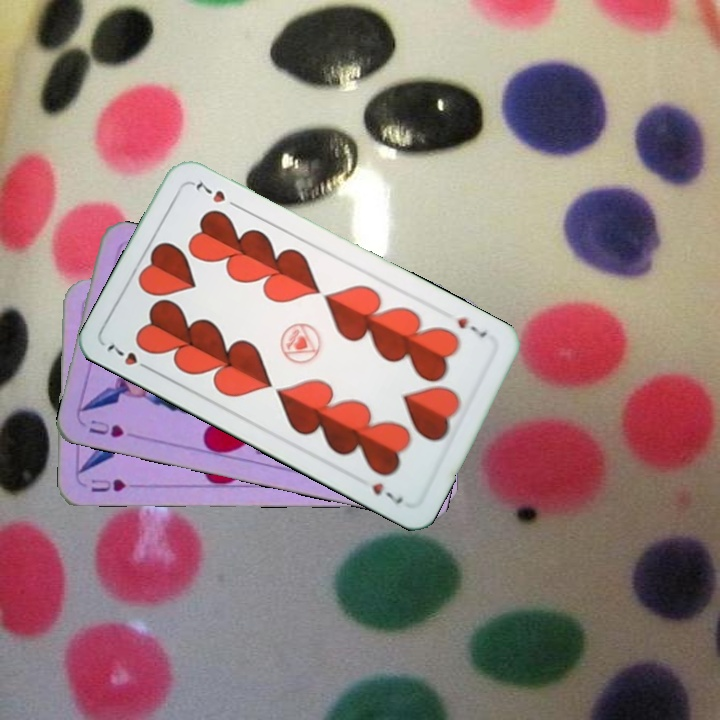H7: (102, 340, 156, 375), (453, 313, 490, 341)
HU: (84, 415, 127, 441), (87, 475, 141, 495)
